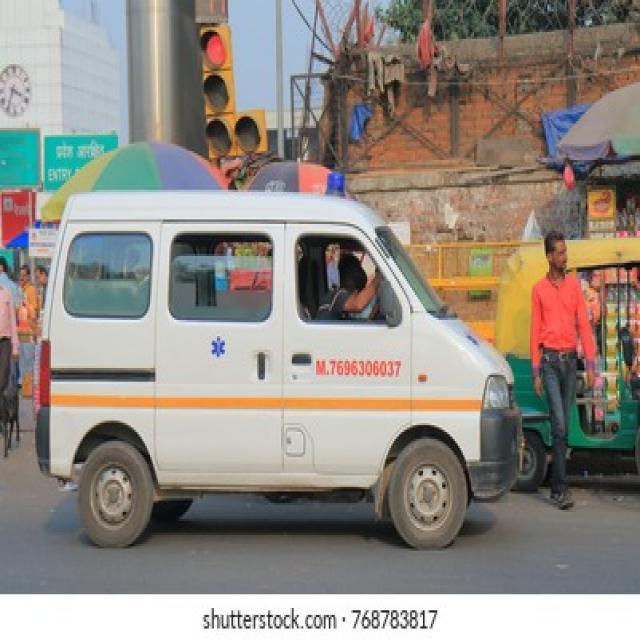ambulance: (42, 190, 520, 549)
